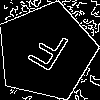F: (21, 26, 72, 81)
